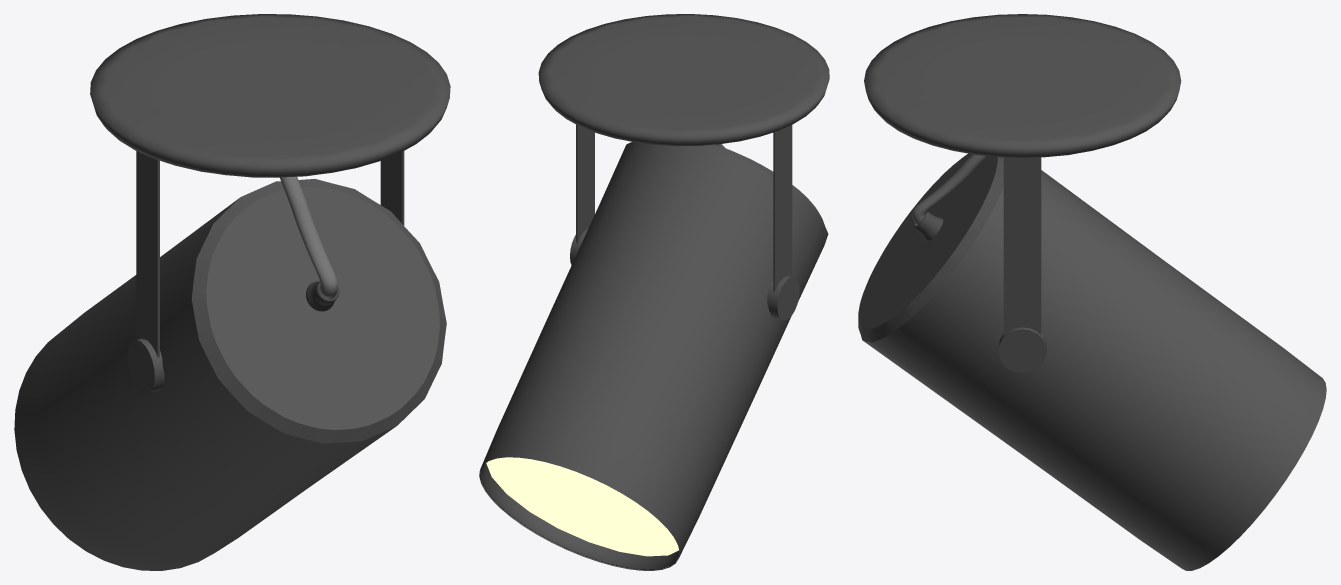
Rendered from mini holofote.fbx.
3 renders of one model, left to right at view 1: azimuth 30°, elevation 25°; view 2: azimuth 150°, elevation 25°; view 3: azimuth 270°, elevation 25°, orthographic. The views are drawn at different scales.
Parts seen in each view (by area): view 1: polySurface3; view 2: polySurface3; view 3: polySurface3.
Boxes of the visible parts, x1,y1,x2,y2 form: polySurface3: (14,14,450,570); polySurface3: (479,14,829,570); polySurface3: (858,14,1326,570).
Bounding box in the file's own units: 1.37 × 2.29 × 2.03.
